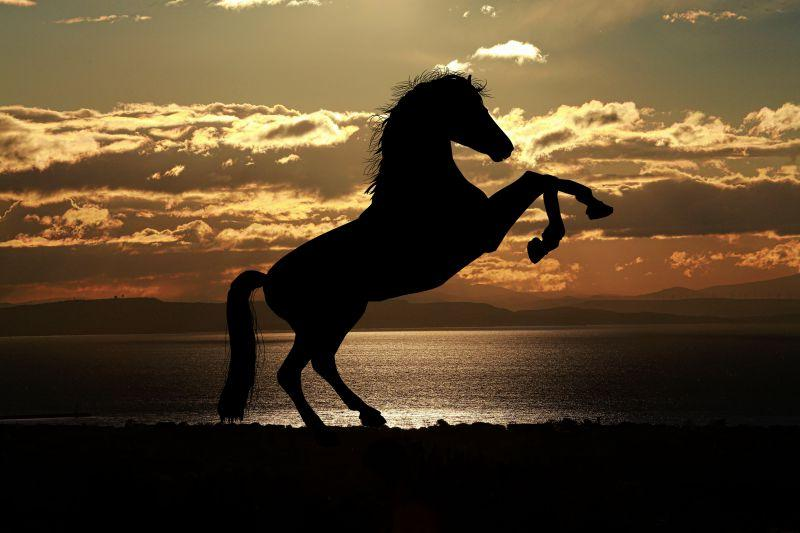horse: (217, 72, 615, 437)
